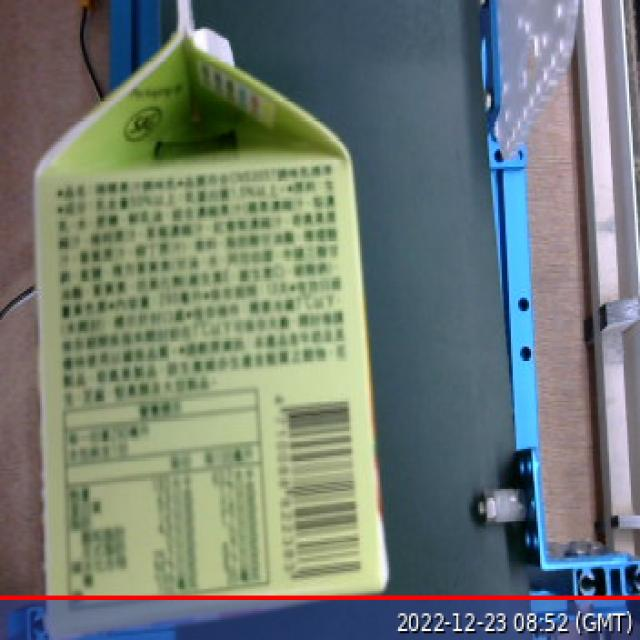non_white_jug: (17, 0, 408, 640)
